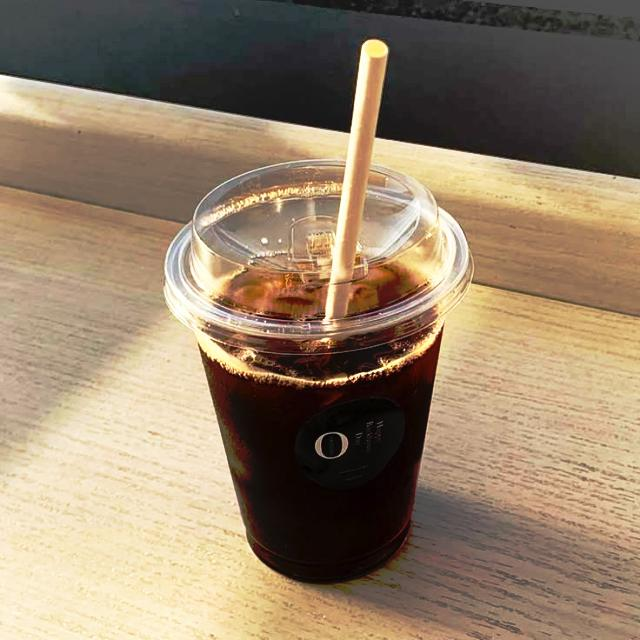drink: (160, 155, 479, 585)
